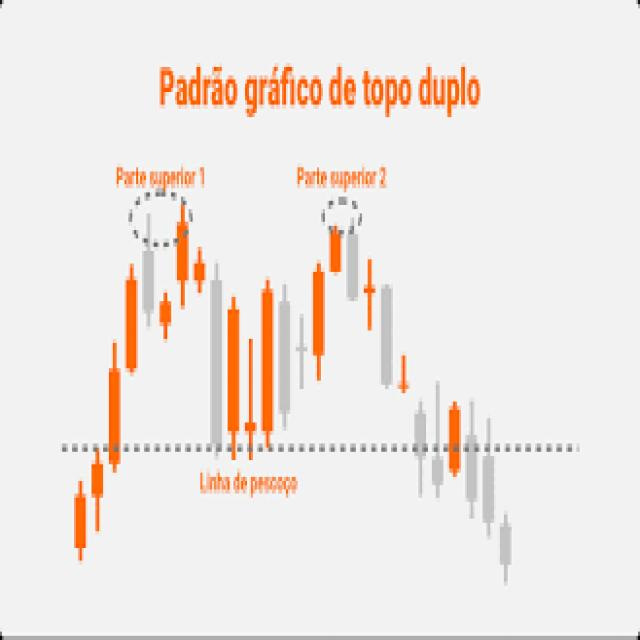topo_duplo: (41, 126, 540, 614)
